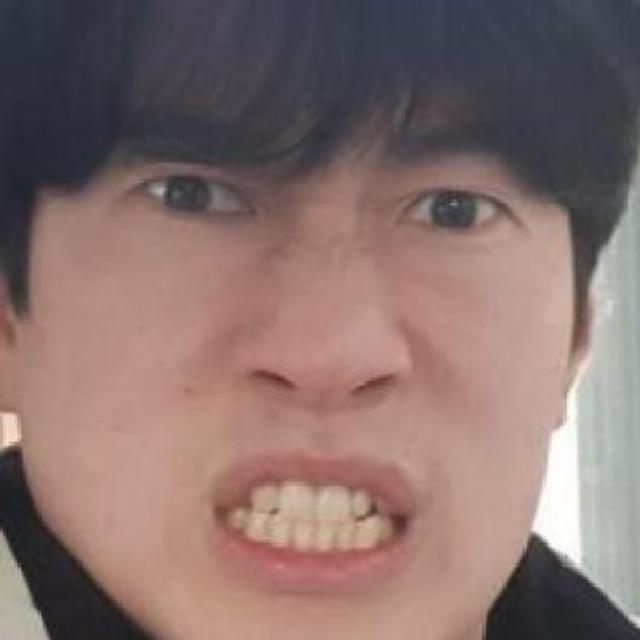Angry: (55, 83, 588, 627)
